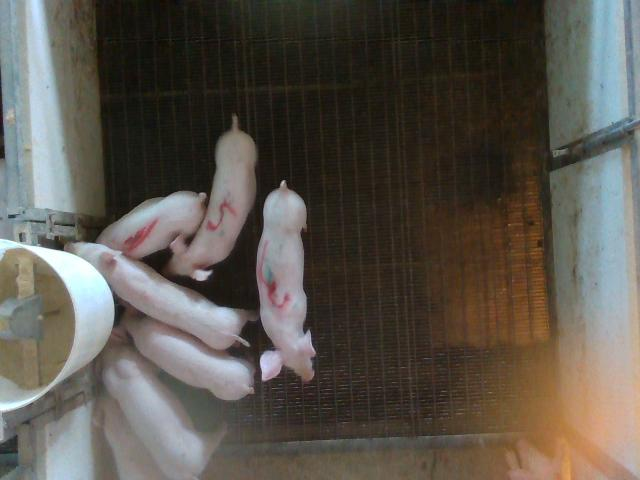pig-1: (96, 191, 206, 258)
pig-3: (258, 180, 315, 381)
pig-5: (164, 115, 256, 281)
